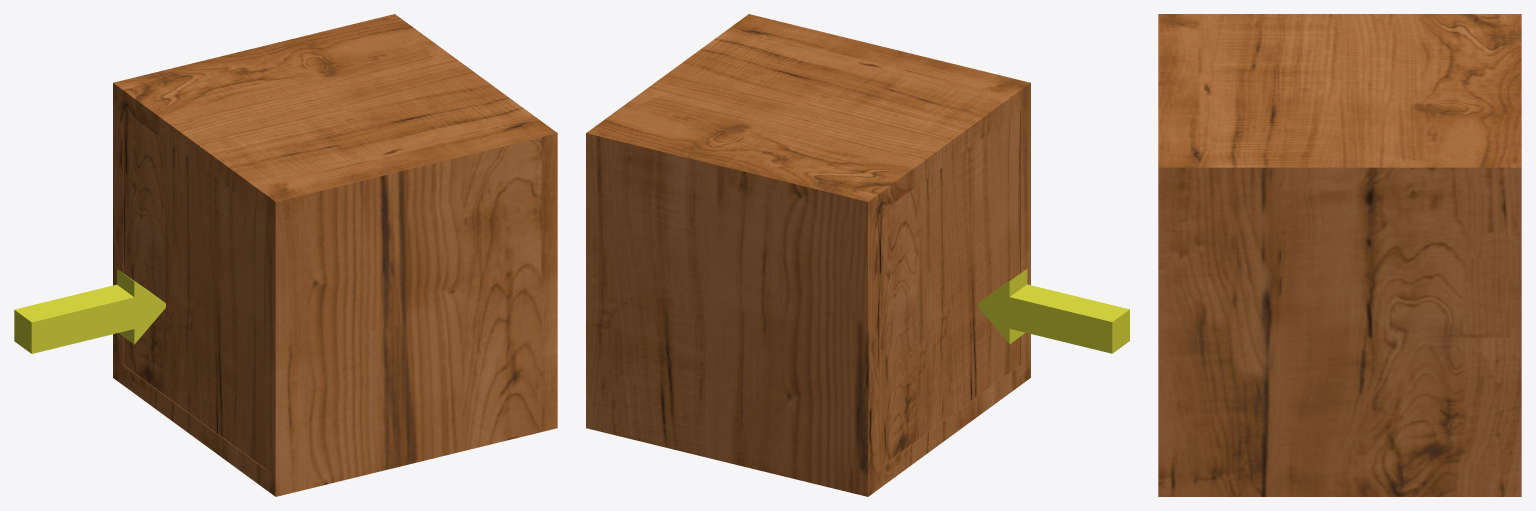
File: cub.glb
The picture shows the model from 3 angles, left to right: view 1: azimuth 30°, elevation 25°; view 2: azimuth 150°, elevation 25°; view 3: azimuth 270°, elevation 25°; orthographic projection. The views are drawn at different scales.
Visible parts, largest first — view 1: box, arrows; view 2: box, arrows; view 3: box.
Boxes of the visible parts, x1,y1,x2,y2 form: box: [113, 14, 557, 496]; arrows: [14, 269, 165, 353]; box: [586, 14, 1030, 496]; arrows: [978, 269, 1129, 353]; box: [1158, 14, 1521, 496].
Size of the model in its own units: 3.22 by 2 by 2.
Materials: 3 (2 with a texture image).
